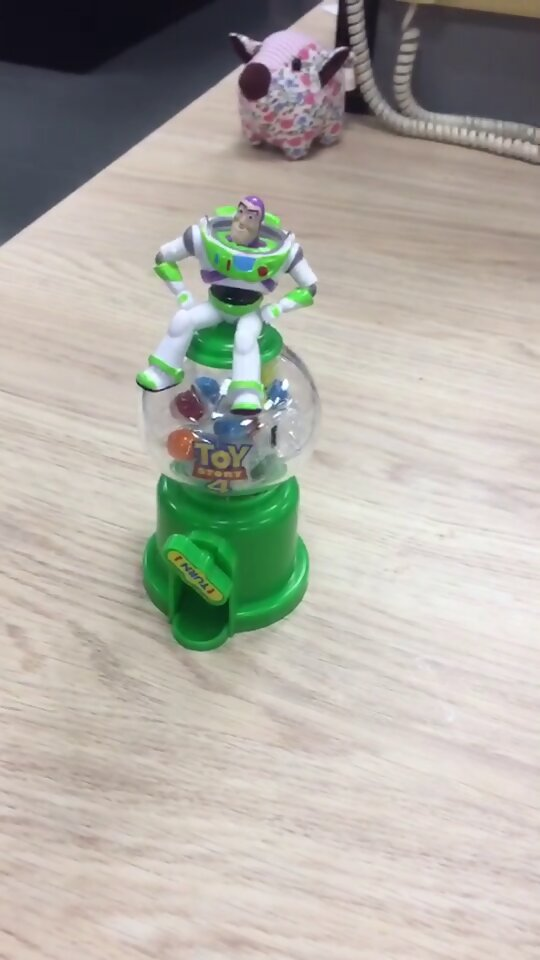buzz: (132, 190, 327, 650)
